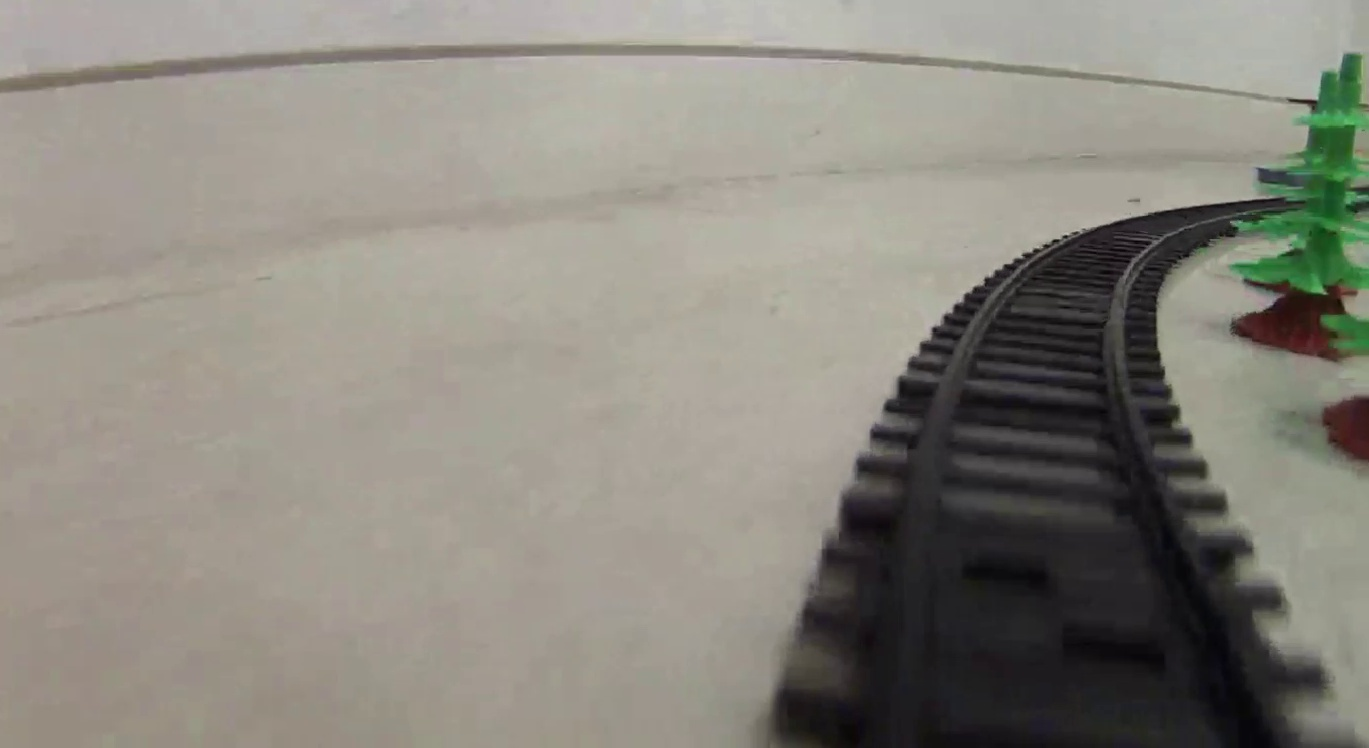tree: (1229, 52, 1369, 348)
